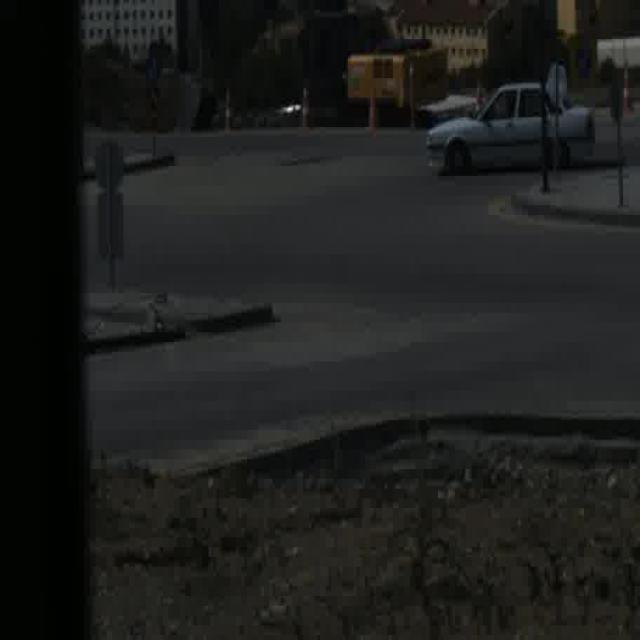Car: (425, 81, 598, 179)
